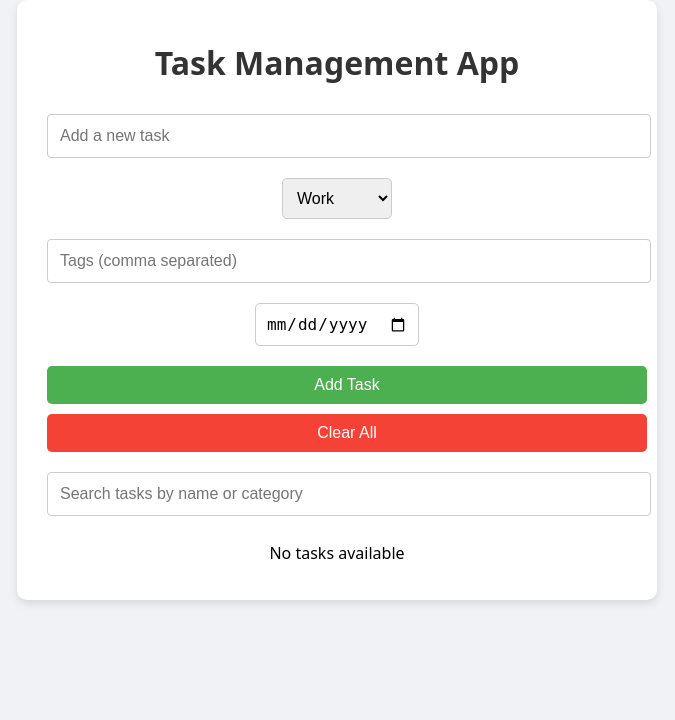
clears all tasks
Type "Task 1" into the field with placeholder "Add a new task".
click(349, 136); type("Task 1")  # box x1=47 y1=114 x2=651 y2=158
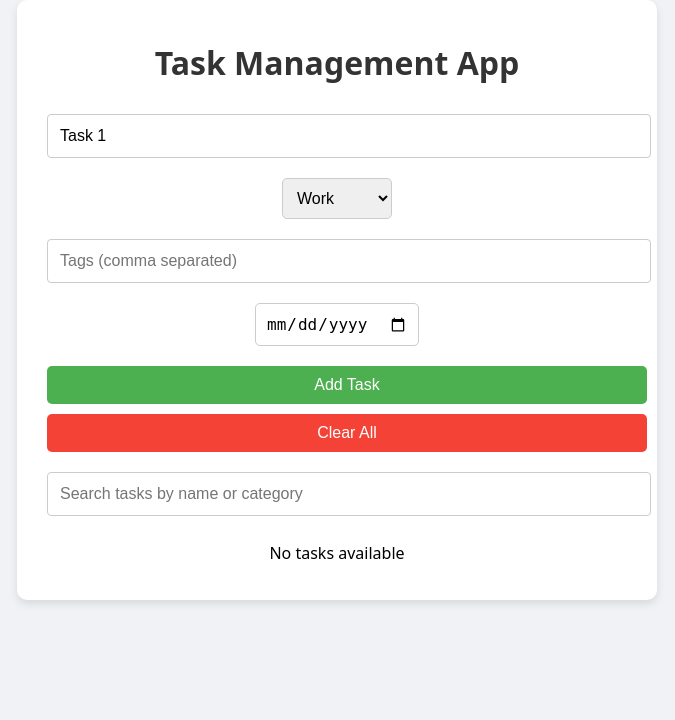
Click the button "Add Task".
click(347, 385)  # box x1=47 y1=366 x2=647 y2=404
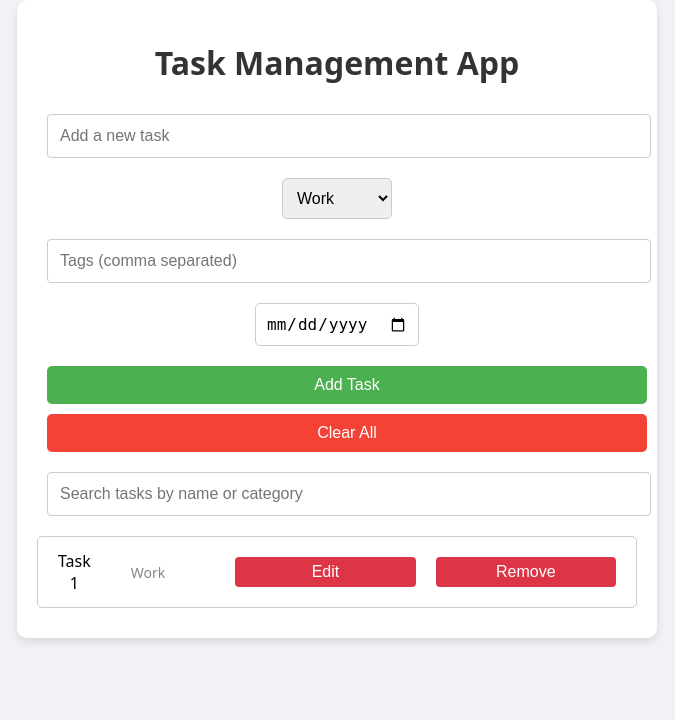
Type "Task 2" into the field with placeholder "Add a new task".
click(349, 136); type("Task 2")  # box x1=47 y1=114 x2=651 y2=158
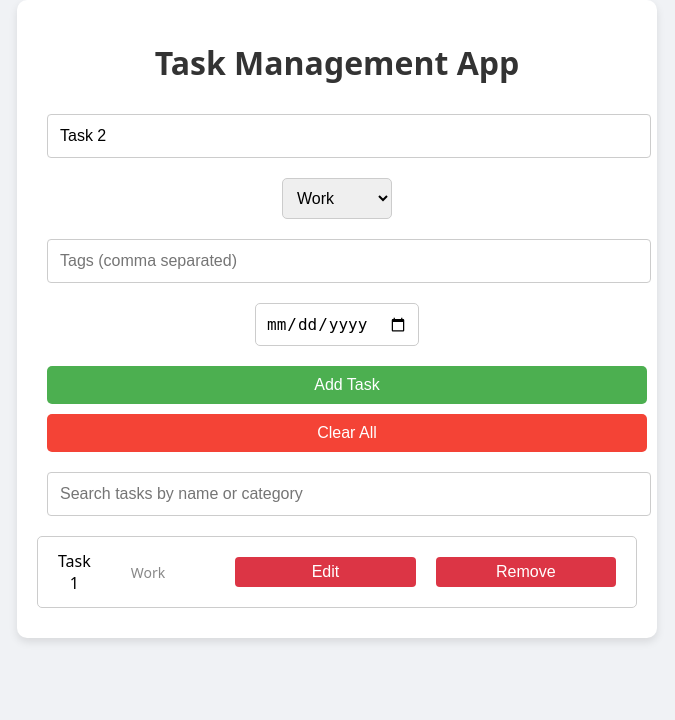
Click the button "Add Task".
click(347, 385)  # box x1=47 y1=366 x2=647 y2=404
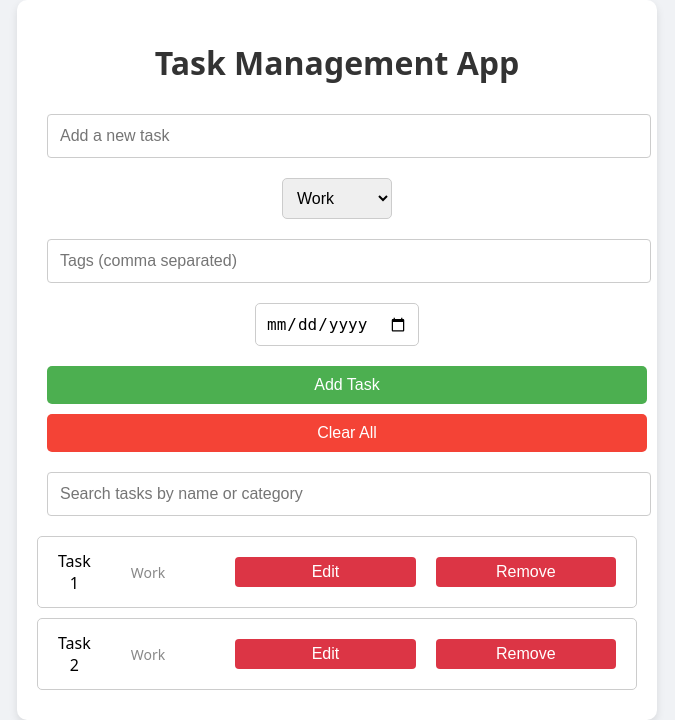
Click the button "Clear All".
click(347, 433)  # box x1=47 y1=414 x2=647 y2=452
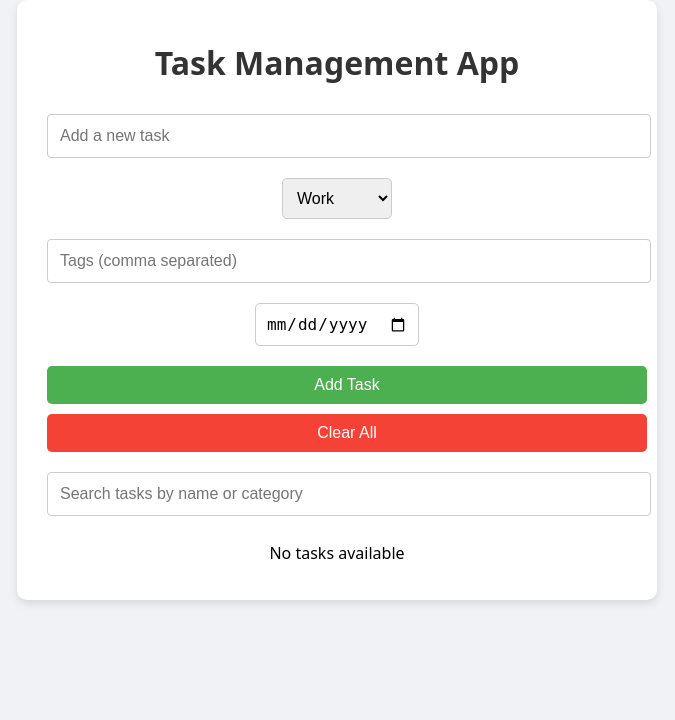
Expected: the text "Task 2" is gone
